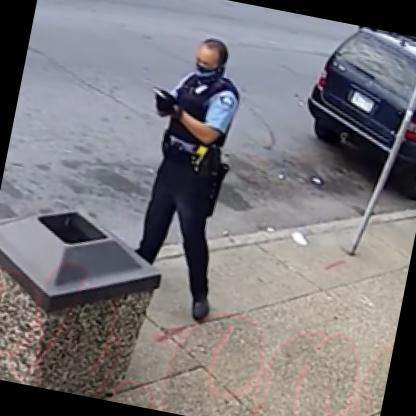Human Body: (107, 20, 288, 339)
